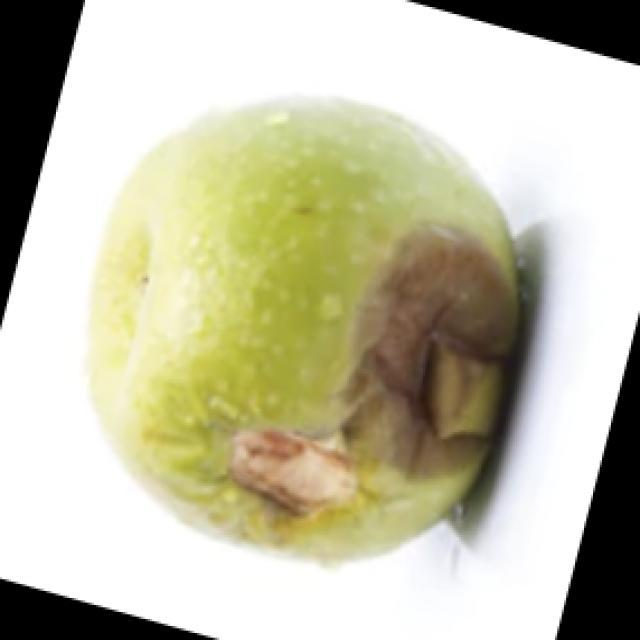Rotten: (80, 112, 537, 565)
